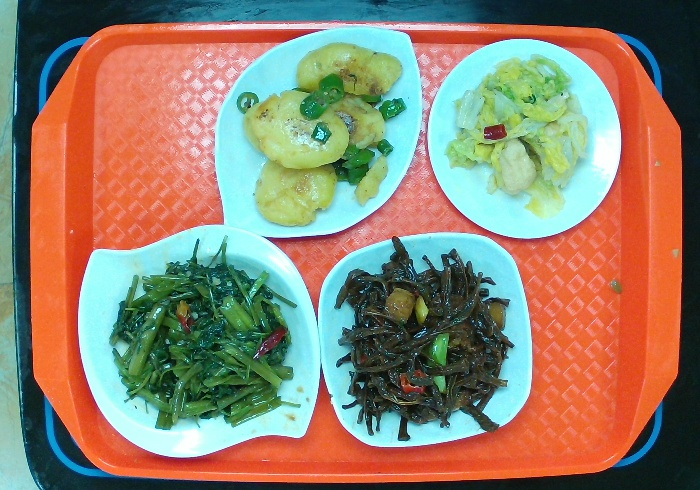RJxy-Da_Du_Pan: (211, 25, 425, 246)
RJxy-Shuang_Jiao_Pan: (76, 222, 326, 462)
RJxy-Si_Fang_Wan: (314, 229, 537, 451)
RJxy-Xiao_Yuan_Die: (423, 34, 626, 243)
